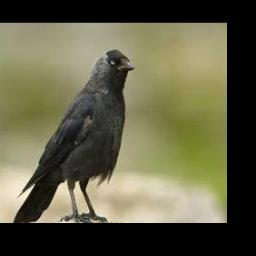Crow: (12, 49, 133, 222)
